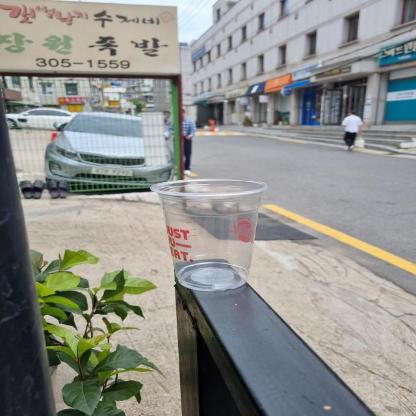Plastic Cup: (146, 174, 274, 296)
